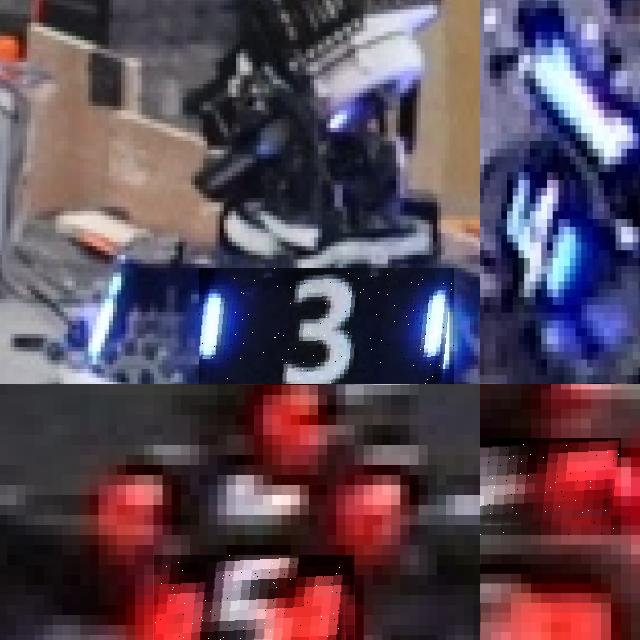B3: (199, 268, 453, 384)
B4: (502, 164, 582, 305)
R3: (480, 438, 621, 535), (480, 574, 611, 640)
R5: (153, 555, 354, 640)
